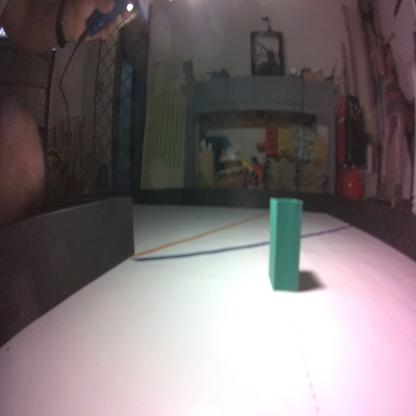green: (266, 195, 306, 296)
